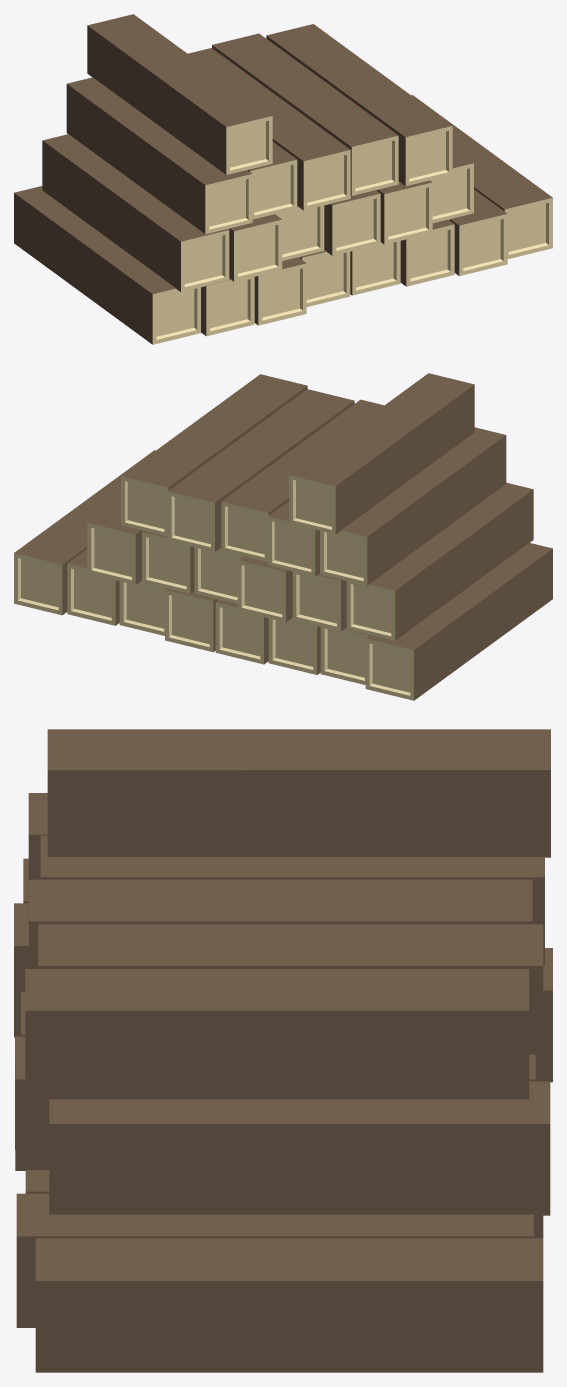
The model's file is SM_Lumber_01_B.fbx.
3 renders of one model, top to bottom at view 1: azimuth 30°, elevation 25°; view 2: azimuth 150°, elevation 25°; view 3: azimuth 270°, elevation 25°, orthographic. The views are drawn at different scales.
Visible parts, largest first — view 1: pCube778; view 2: pCube778; view 3: pCube778.
Part boxes in pixels (x1,y1,x2,y2): pCube778: (14, 14, 552, 344); pCube778: (14, 373, 552, 700); pCube778: (14, 729, 552, 1372).
Size of the model in its own units: 116 by 54.65 by 74.64.
